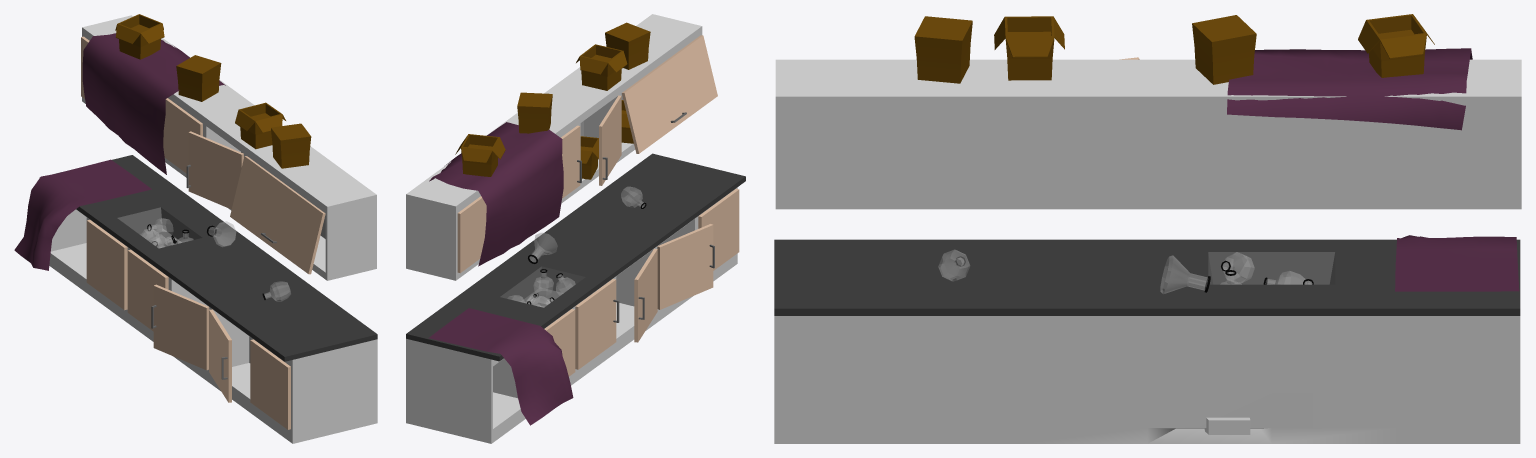
File: mess_lab.fbx
3 views of the same model, side by side, from view 1: azimuth 30°, elevation 25°; view 2: azimuth 150°, elevation 25°; view 3: azimuth 270°, elevation 25° (orthographic). The views are drawn at different scales.
Visible parts, largest first — view 1: polySurface388, polySurface381, pPlane1, polySurface379, pPlane2, polySurface357, polySurface377, polySurface325, polySurface177, polySurface389, polySurface326, polySurface222 (+2 smaller); view 2: polySurface388, polySurface381, pPlane1, pPlane2, polySurface379, polySurface389, polySurface326, polySurface357, polySurface177, polySurface377, polySurface222, polySurface325 (+5 smaller); view 3: polySurface388, polySurface381, pPlane1, pPlane2, polySurface325, polySurface177, polySurface326, polySurface222, polySurface373, polySurface375, polySurface363.
Part boxes in pixels (left/top/right/bottom): polySurface388: left=39, top=155, right=377, bottom=443; polySurface381: left=81, top=15, right=376, bottom=280; pPlane1: left=82, top=33, right=225, bottom=174; polySurface379: left=230, top=156, right=325, bottom=274; pPlane2: left=14, top=159, right=151, bottom=270; polySurface357: left=151, top=284, right=209, bottom=370; polySurface377: left=186, top=131, right=243, bottom=209; polySurface325: left=176, top=55, right=221, bottom=101; polySurface177: left=115, top=14, right=164, bottom=59; polySurface389: left=209, top=309, right=231, bottom=402; polySurface326: left=235, top=102, right=285, bottom=149; polySurface222: left=271, top=123, right=311, bottom=168; polySurface388: left=406, top=153, right=745, bottom=443; polySurface381: left=406, top=14, right=702, bottom=280; pPlane1: left=429, top=122, right=563, bottom=266; pPlane2: left=428, top=308, right=573, bottom=425; polySurface379: left=622, top=35, right=717, bottom=153; polySurface389: left=657, top=224, right=714, bottom=309; polySurface326: left=576, top=44, right=627, bottom=90; polySurface357: left=634, top=248, right=657, bottom=342; polySurface177: left=455, top=134, right=505, bottom=176; polySurface377: left=599, top=95, right=621, bottom=185; polySurface222: left=605, top=22, right=650, bottom=69; polySurface325: left=517, top=92, right=552, bottom=133; polySurface388: left=774, top=239, right=1520, bottom=443; polySurface381: left=775, top=59, right=1521, bottom=209; pPlane1: left=1227, top=48, right=1472, bottom=130; pPlane2: left=1395, top=235, right=1519, bottom=291; polySurface325: left=1192, top=15, right=1256, bottom=84; polySurface177: left=1358, top=14, right=1434, bottom=77; polySurface326: left=994, top=16, right=1064, bottom=80; polySurface222: left=914, top=16, right=972, bottom=83; polySurface373: left=1160, top=255, right=1210, bottom=293; polySurface375: left=938, top=249, right=969, bottom=280; polySurface363: left=1221, top=252, right=1254, bottom=283.
Size of the model in its own units: 0.98 by 1.74 by 3.01.
